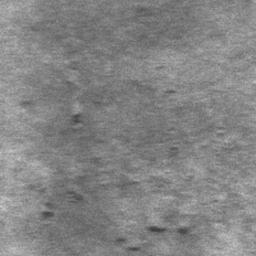Rolled in scale: (29, 184, 54, 218), (146, 215, 188, 235), (116, 238, 140, 252), (67, 191, 83, 204), (168, 138, 178, 158), (73, 114, 81, 132), (157, 179, 167, 192), (217, 127, 224, 136), (165, 90, 176, 95)
